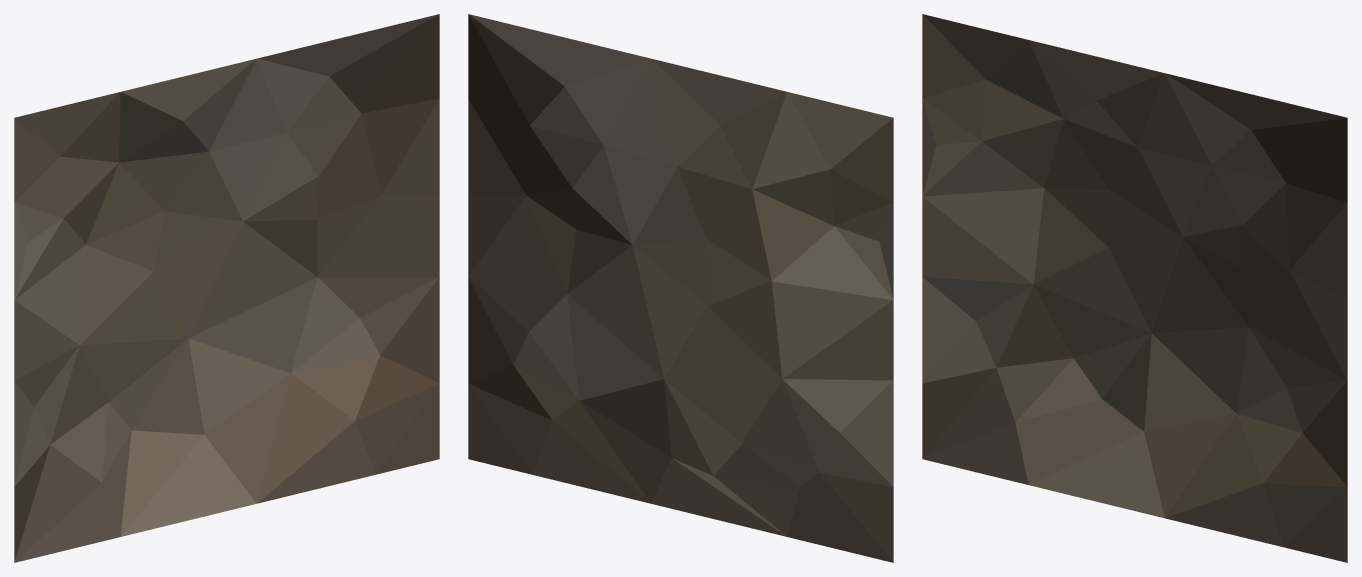
Rendered from Wall_Base_UG-DirtA.fbx.
3 renders of one model, left to right at view 1: azimuth 30°, elevation 25°; view 2: azimuth 150°, elevation 25°; view 3: azimuth 330°, elevation 25°, orthographic.
Parts seen in each view (by area): view 1: Wall_Base_UG-DirtA; view 2: Wall_Base_UG-DirtA; view 3: Wall_Base_UG-DirtA.
Part boxes in pixels (box(x1,y1,x2,y2)): Wall_Base_UG-DirtA: box(14, 14, 439, 562); Wall_Base_UG-DirtA: box(468, 14, 893, 562); Wall_Base_UG-DirtA: box(922, 14, 1347, 562).
Size of the model in its own units: 400 by 400 by 50.96.
